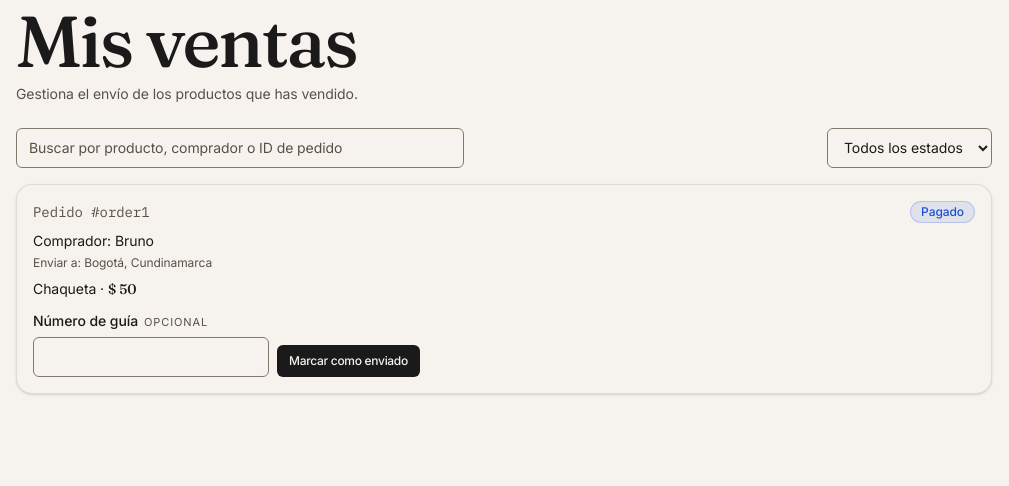
Test case: MisVentasPage › mantiene la lista visible y avisa en línea si falla una actualización en segundo plano, sin confundirlo con un error de carga inicial
Expected: the text "Pedido #order1" is shown, top-left (33, 202), bottom-right (150, 222)
Click the button "Marcar como enviado" at (348, 361), box top-left (277, 345), bottom-right (420, 377)
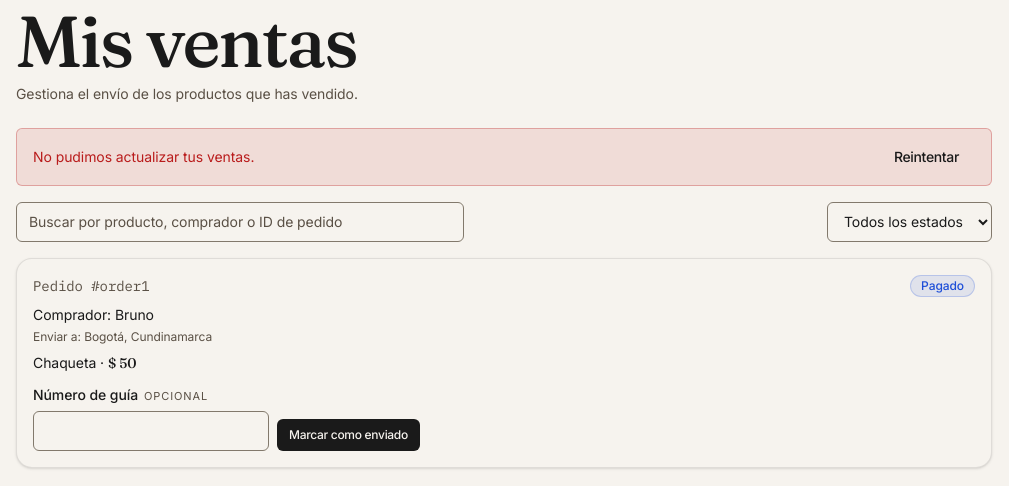
Expected: the text "Pedido #order1" is shown, top-left (33, 276), bottom-right (150, 296)
Result: the text "No pudimos actualizar tus ventas." is shown at top-left (33, 147), bottom-right (254, 167)
